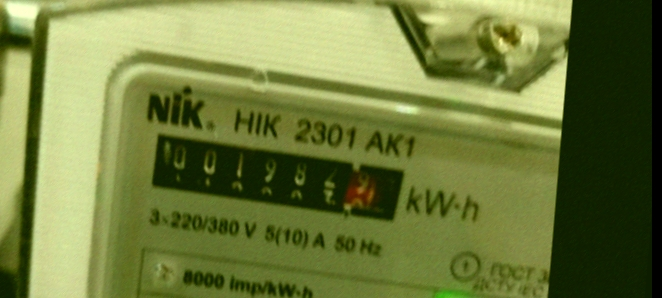0: (170, 140, 189, 170), (200, 146, 219, 176)
1: (232, 148, 246, 178)
2: (321, 159, 342, 189)
8: (292, 157, 310, 187)
9: (352, 167, 374, 197), (261, 154, 278, 184)
screen: (133, 117, 421, 236)
